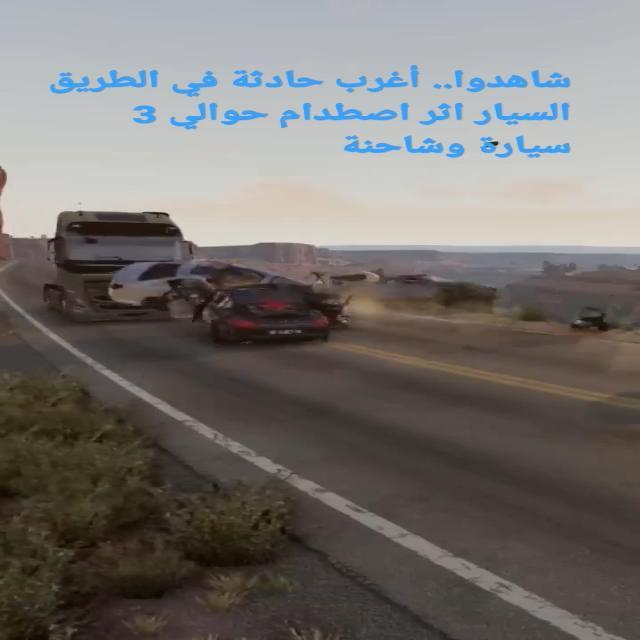accident: (91, 257, 385, 359)
